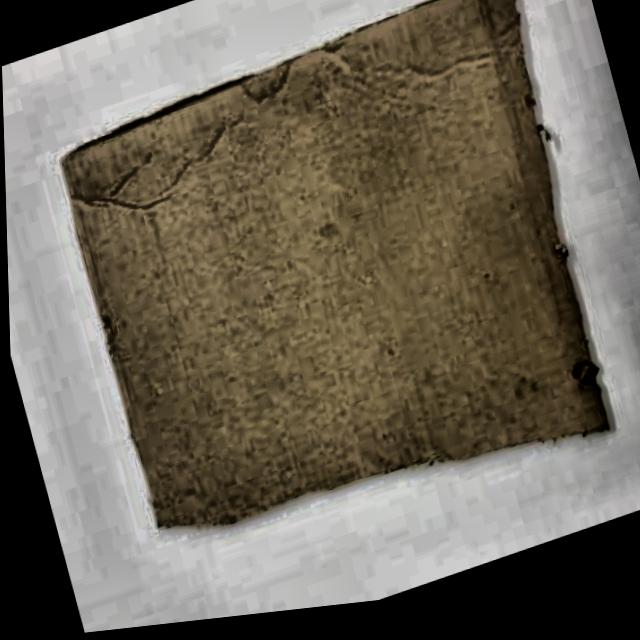Cardbox: (17, 0, 640, 611)
